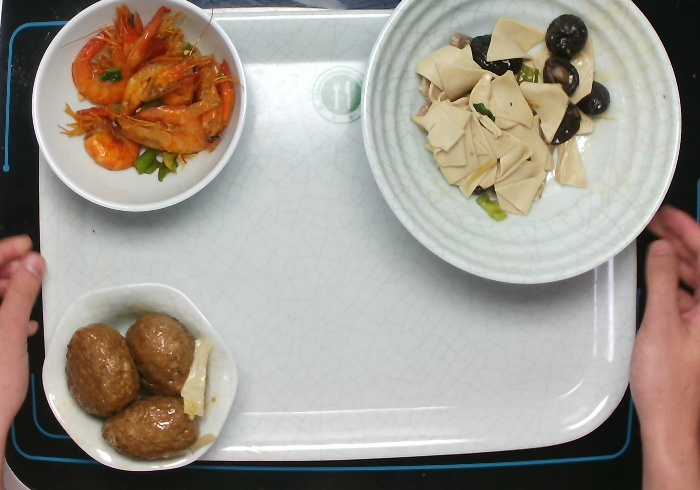JYsf-Da_Tang_Wan: (356, 1, 683, 288)
JYsf-Fan_Wan: (27, 1, 250, 216)
WCQzf-Hua_Duo_Wan: (39, 279, 242, 476)
